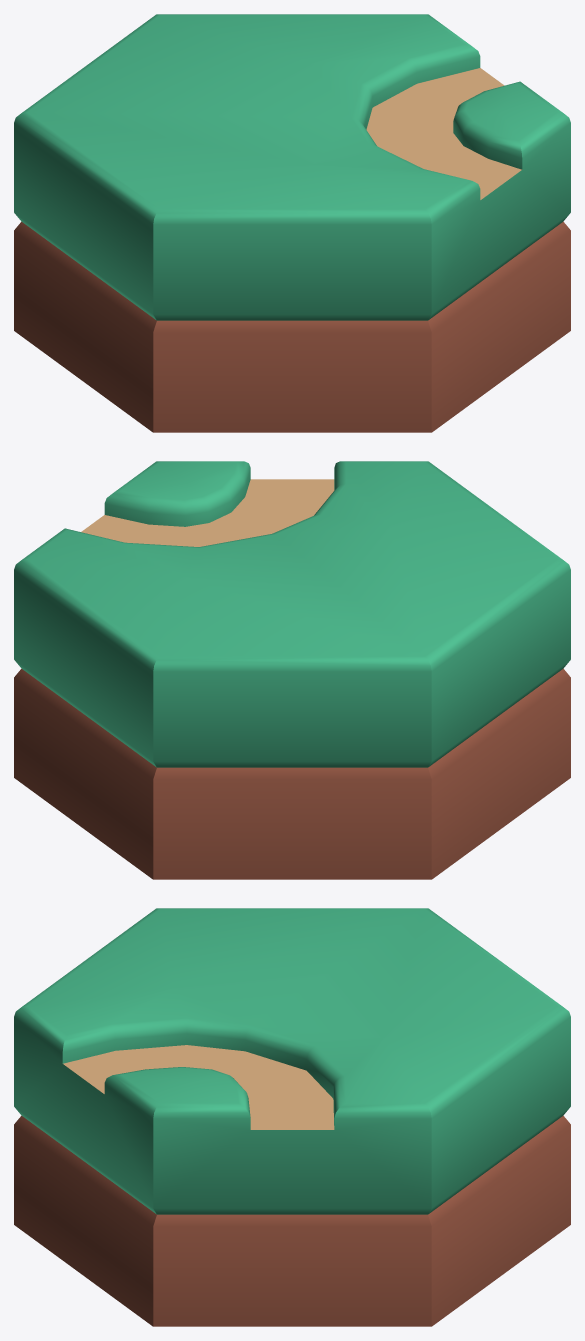
Rendered from kaykit-hex-forest-roadc-detail.glb.
3 renders of one model, top to bottom at view 1: azimuth 30°, elevation 25°; view 2: azimuth 150°, elevation 25°; view 3: azimuth 270°, elevation 25°, orthographic.
Parts seen in each view (by area): view 1: hex_forest_roadC_detail; view 2: hex_forest_roadC_detail; view 3: hex_forest_roadC_detail.
Part boxes in pixels (box(x1,y1,x2,y2)): hex_forest_roadC_detail: box(14, 14, 570, 432); hex_forest_roadC_detail: box(14, 461, 570, 879); hex_forest_roadC_detail: box(14, 908, 570, 1326).
Size of the model in its own units: 2 by 1 by 2.31.
